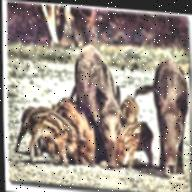boar: (51, 37, 140, 174), (130, 52, 192, 185)
